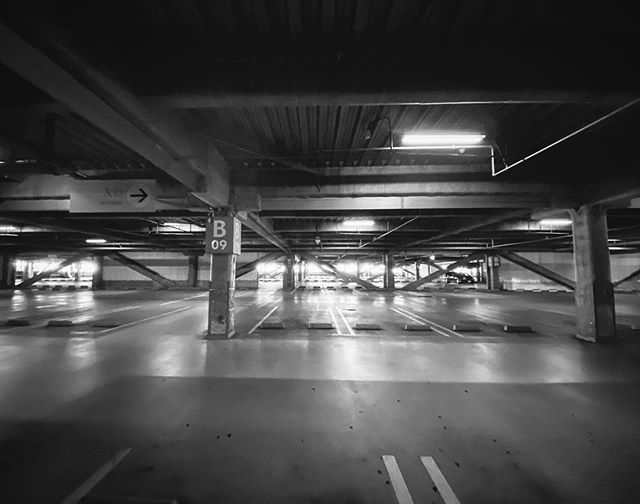collumn: (199, 209, 244, 340), (567, 208, 612, 339)
sign: (64, 173, 170, 220), (204, 207, 241, 256)
